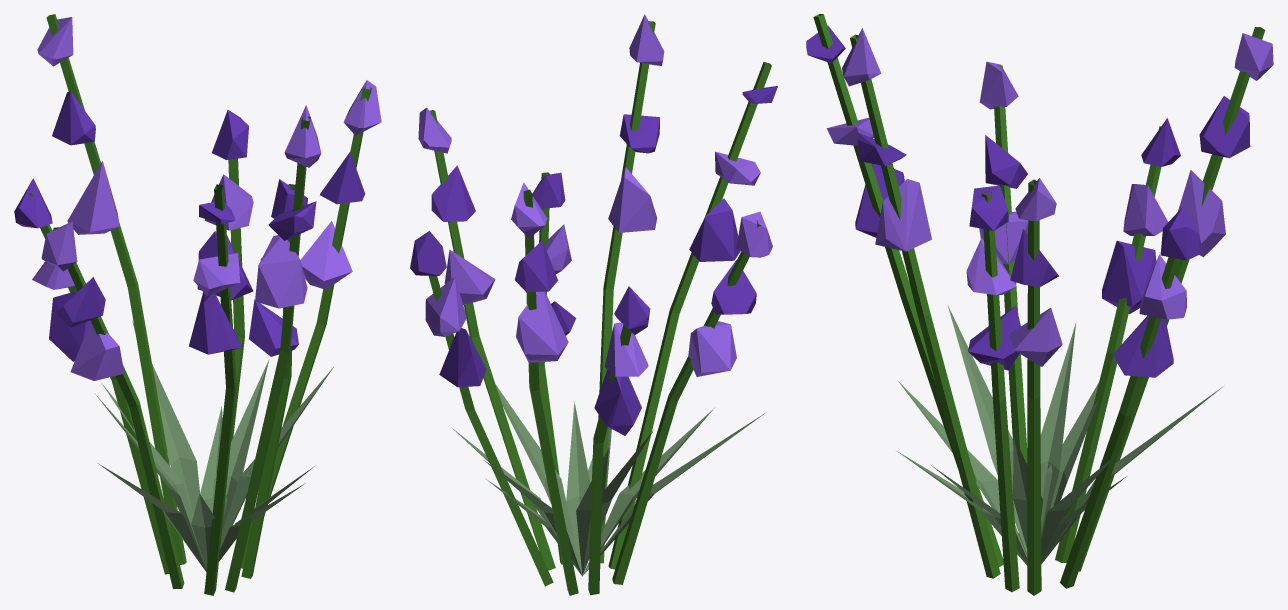
The model's file is flower_lavender.glb.
3 views of the same model, side by side, from view 1: azimuth 30°, elevation 25°; view 2: azimuth 150°, elevation 25°; view 3: azimuth 270°, elevation 25° (orthographic). The views are drawn at different scales.
Parts seen in each view (by area): view 1: Lavender; view 2: Lavender; view 3: Lavender.
Boxes of the visible parts, x1,y1,x2,y2 form: Lavender: [14, 14, 381, 595]; Lavender: [410, 14, 777, 595]; Lavender: [806, 14, 1273, 595].
Bounding box in the file's own units: 0.4196 × 0.6017 × 0.4577.
